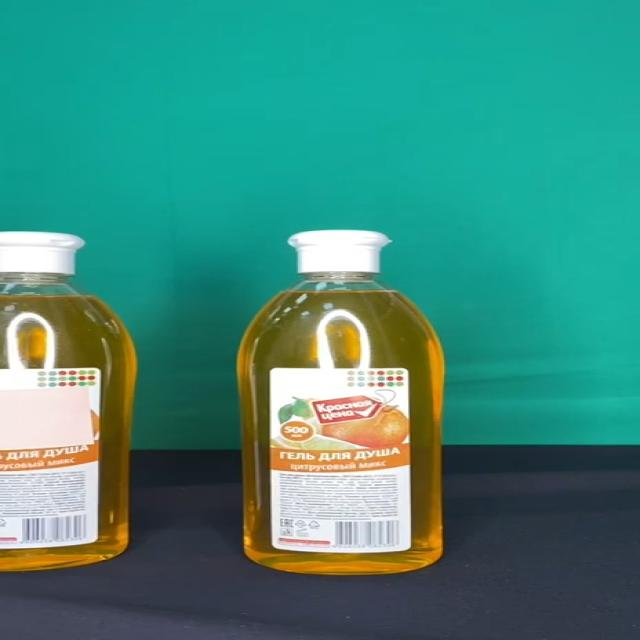Bottle: (236, 230, 446, 576)
Cap: (287, 231, 390, 274)
